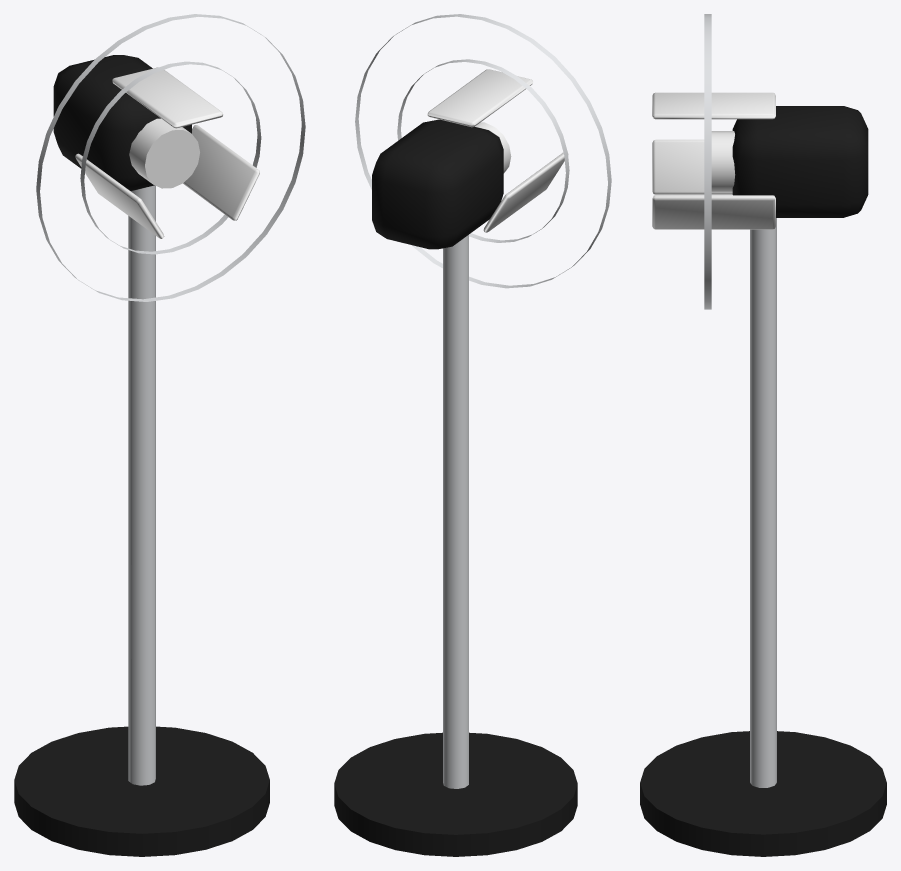
Rendered from fur_standing_fan.glb.
3 views of the same model, side by side, from view 1: azimuth 30°, elevation 25°; view 2: azimuth 150°, elevation 25°; view 3: azimuth 270°, elevation 25° (orthographic). The views are drawn at different scales.
Parts seen in each view (by area): view 1: FUR_standing_fan; view 2: FUR_standing_fan; view 3: FUR_standing_fan.
Boxes of the visible parts, left/top/right/bottom form: FUR_standing_fan: left=14, top=14, right=305, bottom=856; FUR_standing_fan: left=334, top=14, right=611, bottom=856; FUR_standing_fan: left=640, top=14, right=886, bottom=856.
Size of the model in its own units: 0.48 by 1.39 by 0.4.
Materials: 2 (1 with a texture image).
